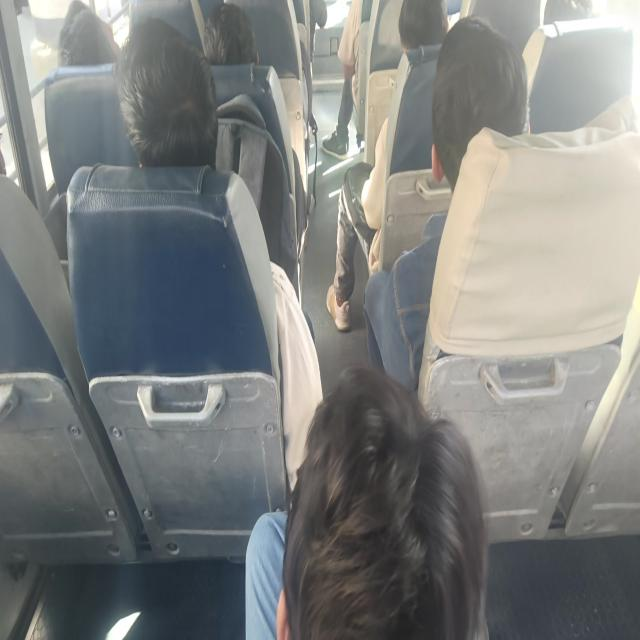person: (113, 16, 323, 490), (244, 364, 490, 638), (362, 14, 530, 391), (326, 0, 449, 331), (114, 16, 218, 169), (321, 0, 363, 159), (57, 0, 120, 67), (202, 2, 259, 66), (398, 0, 449, 52)
